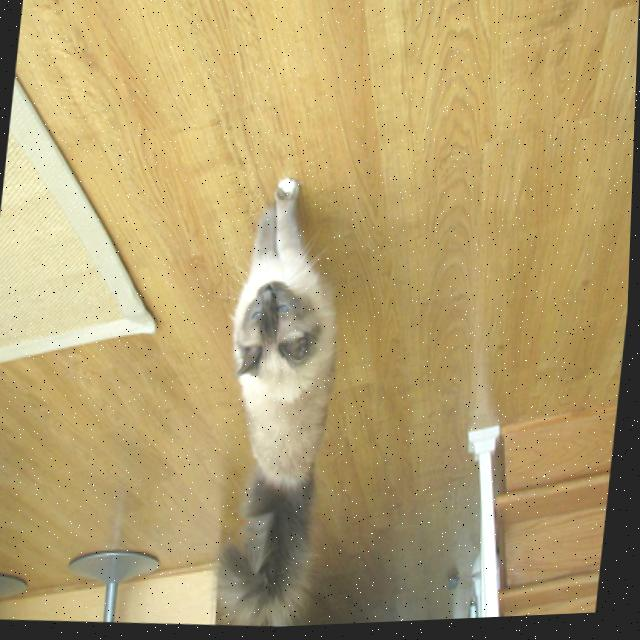Birman: (203, 168, 356, 632)
